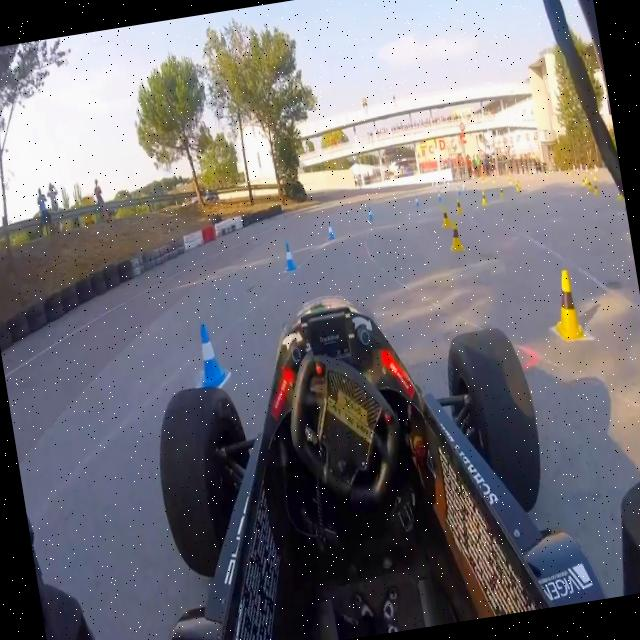blue_cone: (186, 321, 231, 398), (280, 240, 299, 276), (324, 218, 338, 243), (365, 204, 375, 224), (413, 194, 421, 208), (456, 184, 462, 196), (437, 189, 442, 203)
yellow_cone: (544, 261, 587, 344), (446, 219, 466, 253), (438, 206, 452, 230), (454, 196, 464, 217), (479, 190, 488, 207), (498, 184, 506, 201), (592, 182, 600, 196), (587, 180, 594, 192), (516, 184, 520, 192)
